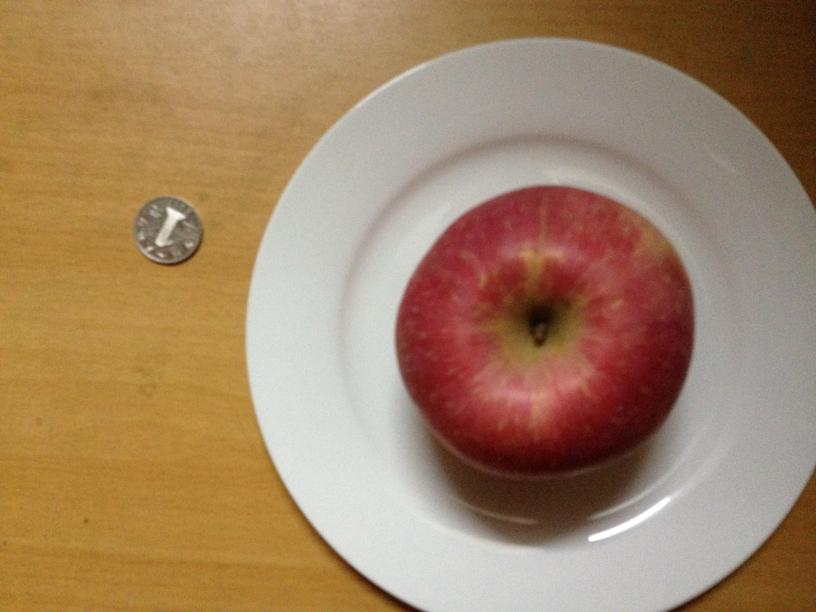apple: (390, 185, 695, 478)
coin: (134, 196, 204, 266)
